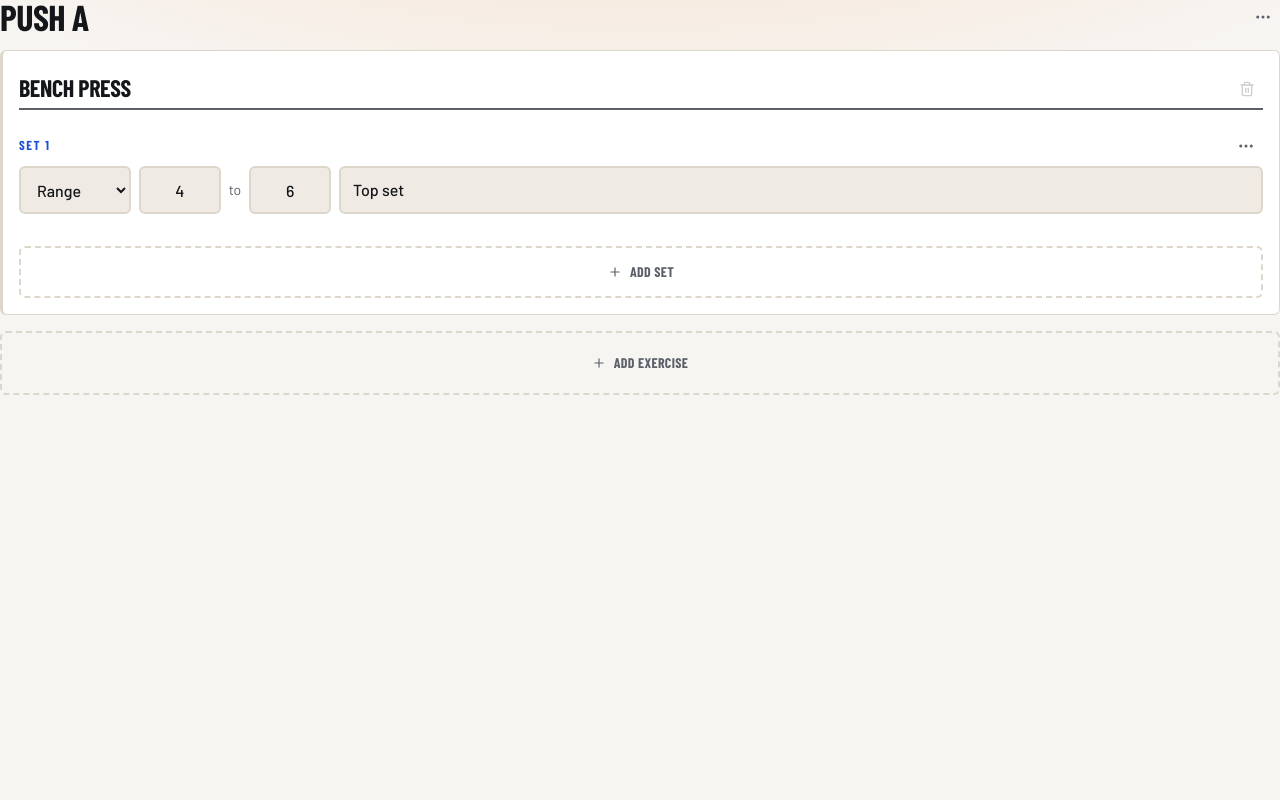
it: WorkoutEditor › renames the day from the same menu
Click the button named "Day options".
click(1263, 17)  # box [1246,0,1279,34]
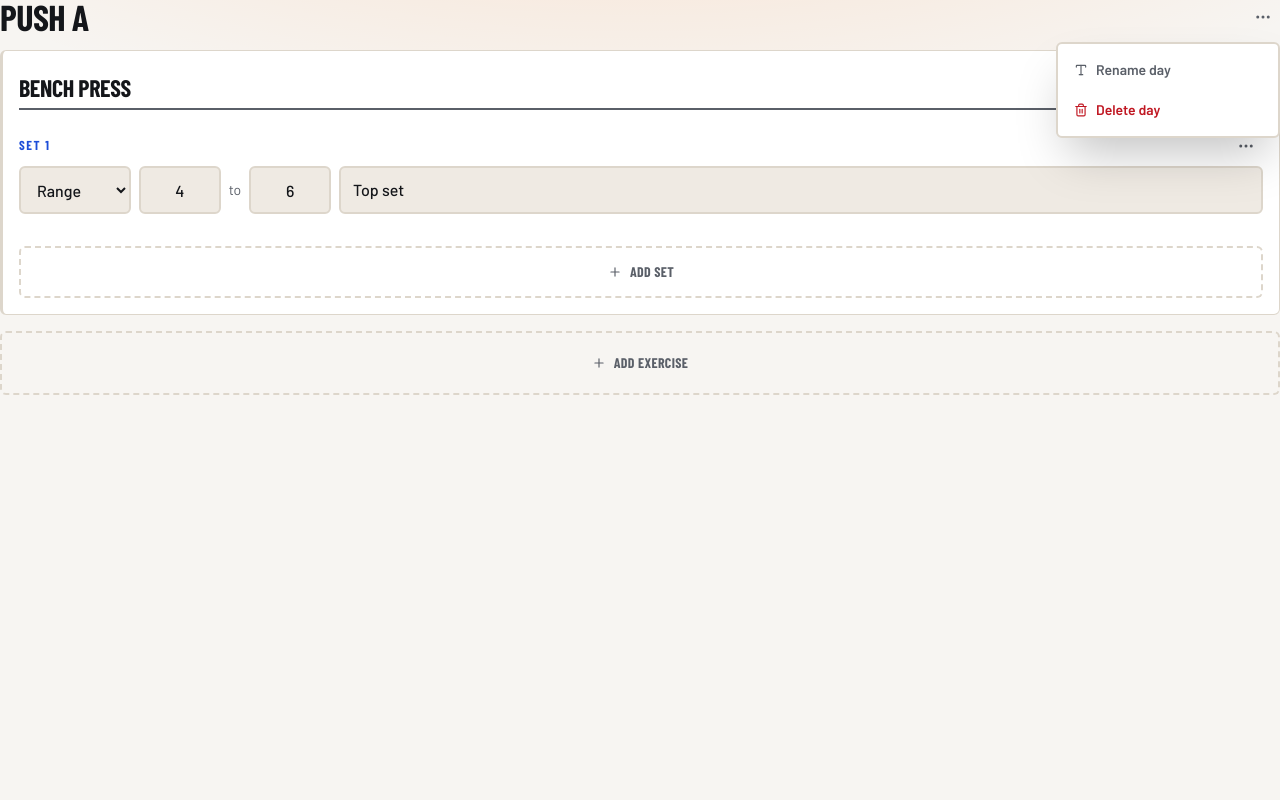
Click the button "Rename day".
click(1168, 70)  # box [1066,52,1270,88]
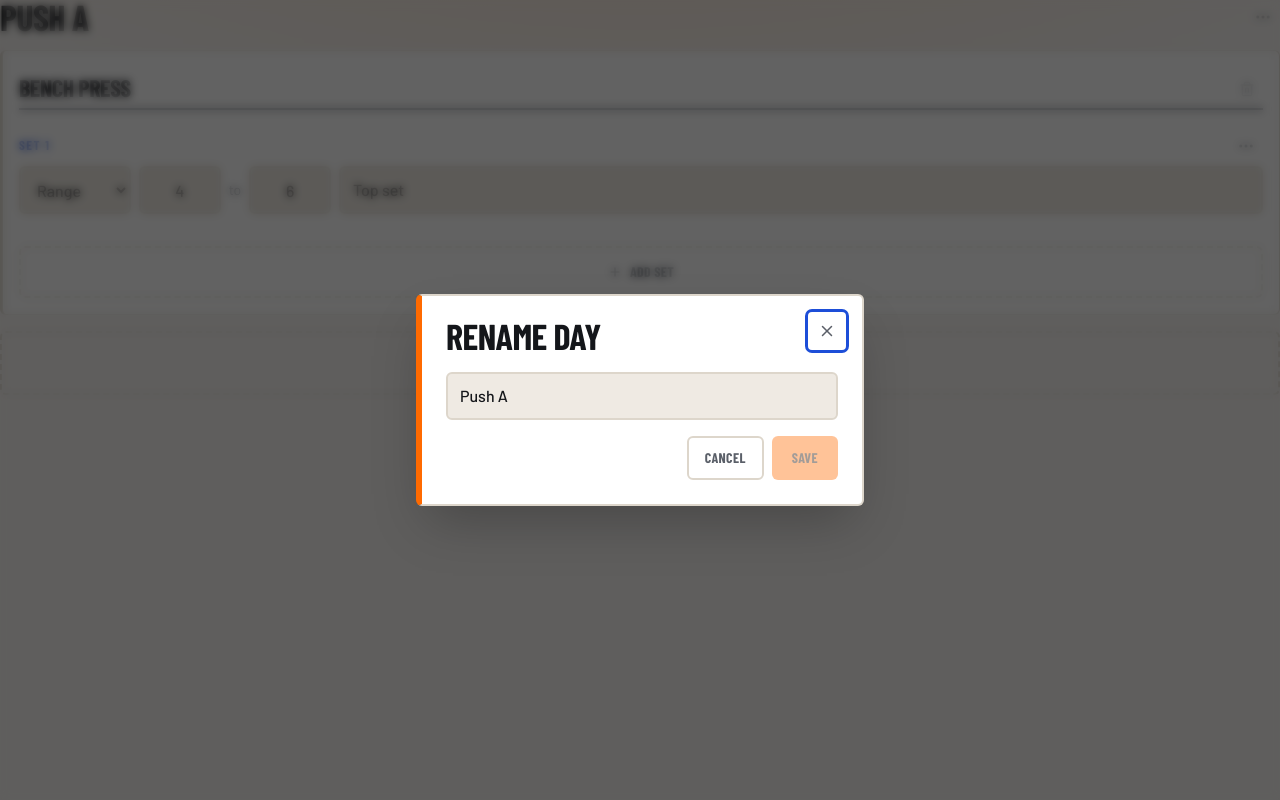
Expected: the dialog shows "Rename day", [446,314,601,357]
Expected: the field named "Day name" holds "Push A", [446,372,838,420]
